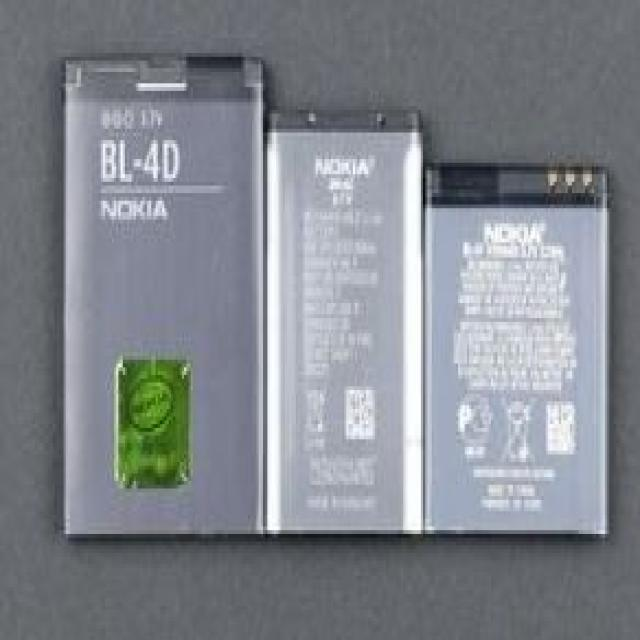electronic: (48, 33, 264, 563), (423, 119, 628, 569), (252, 80, 426, 576)
